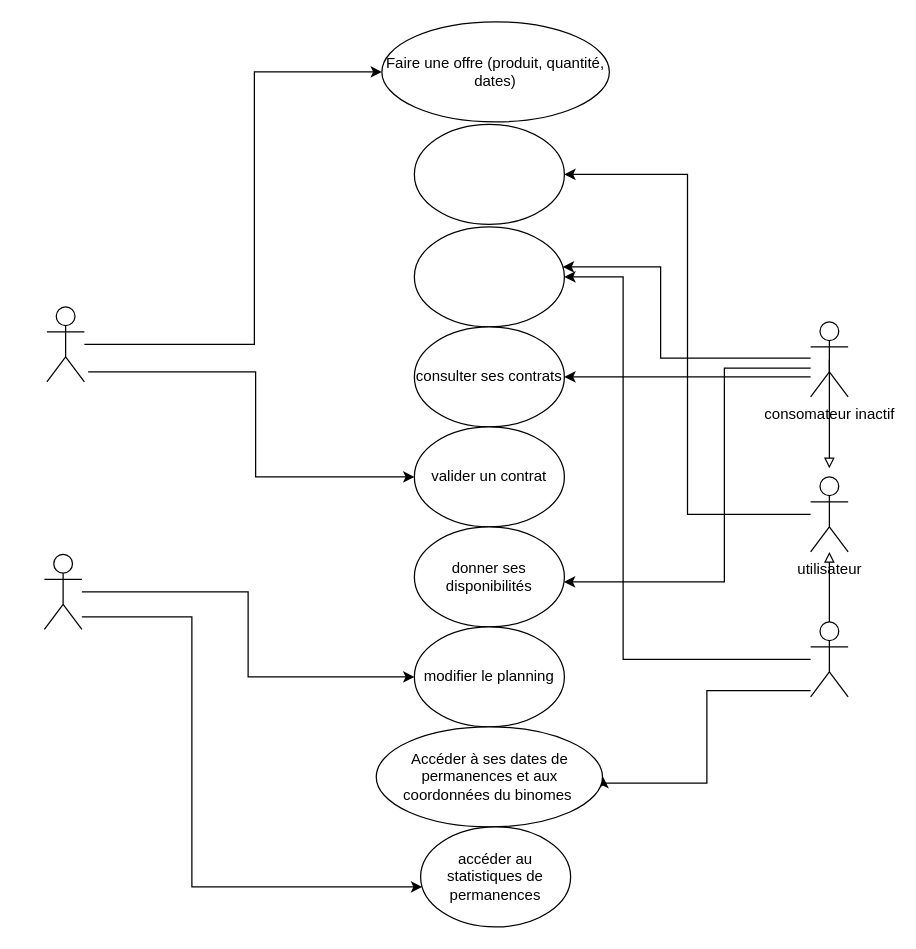
The diagram is 916 pixels wide and 949 high, and some of its shapes have lost their labels. The shapes that lost their labels are listed below. From the top down, each one's centre as x and y in pixels, then its label:
(x=488, y=173): Parcourir les offres
(x=488, y=276): demandé à signer des contrats
(x=65, y=344): Producteur
(x=62, y=591): organisateur
(x=828, y=659): Consomateur actif
